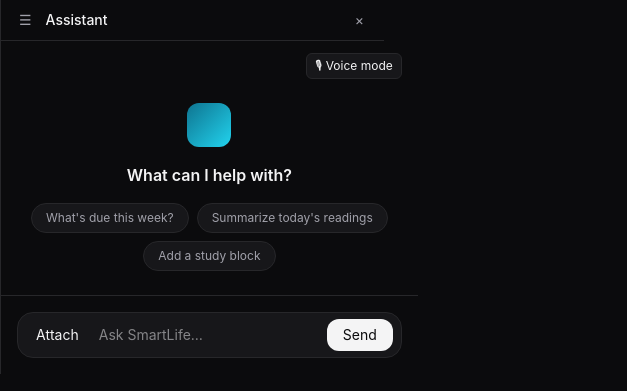
Test: AIDock › toggling the sidebar button reveals the conversation list nav
The width and height of the screenshot is (627, 391).
Click the button named "Toggle conversation list". click: (25, 20)
box: x1=13 y1=8 x2=38 y2=32
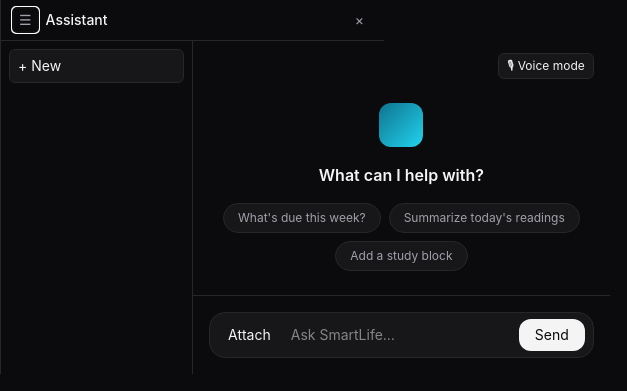
Result: the navigation bar named "conversations" is shown at x1=1 y1=41 x2=193 y2=374
